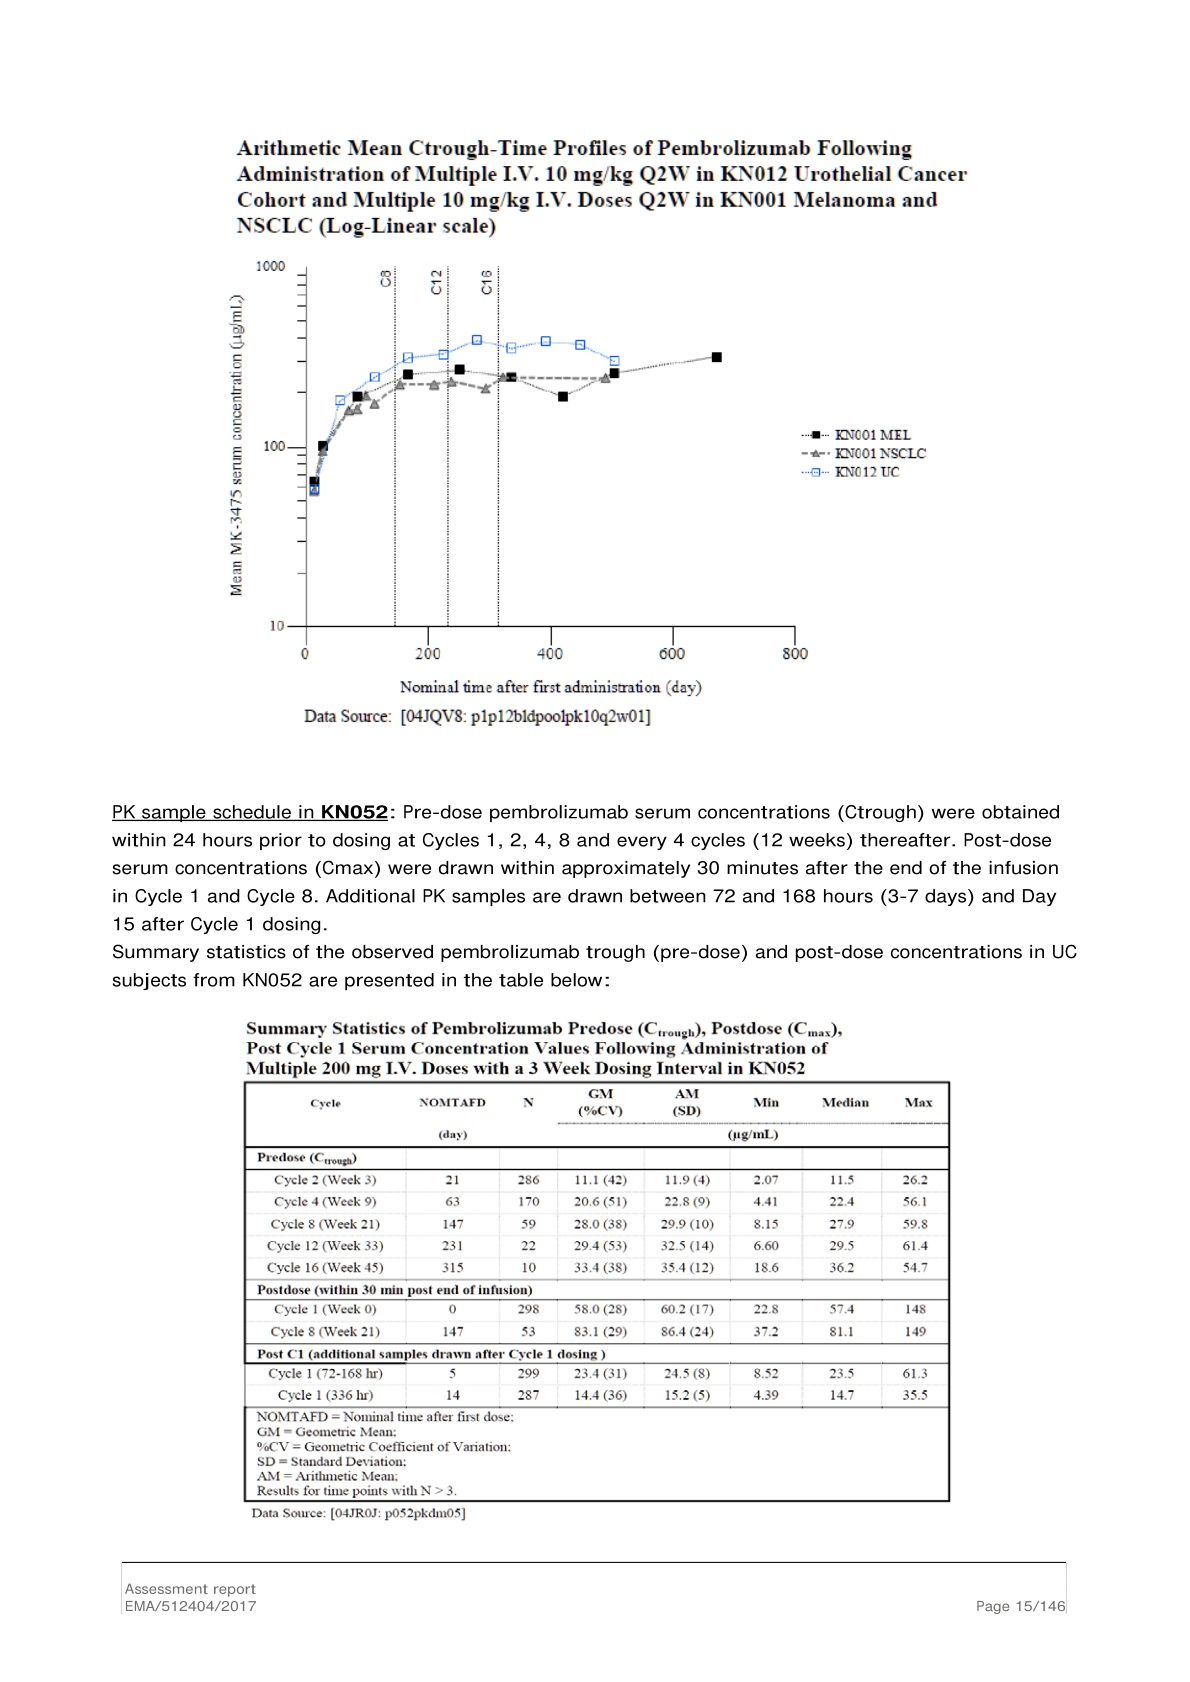partial_lined_merged_cells: (243, 1081, 950, 1503)
